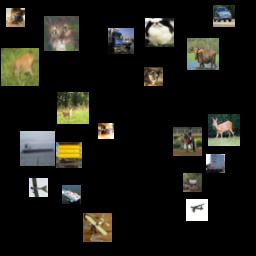airplane: (83, 213, 112, 242), (186, 199, 208, 221), (29, 178, 48, 197)
automobile: (213, 5, 235, 27)
cat: (44, 16, 79, 51), (144, 67, 163, 86), (98, 123, 114, 139)
deer: (1, 48, 39, 86), (187, 38, 219, 70), (208, 114, 240, 146), (57, 92, 89, 124), (183, 173, 202, 192)
dog: (145, 18, 174, 47), (6, 8, 25, 27)
ship: (20, 131, 55, 166), (62, 185, 81, 204)
truck: (108, 28, 134, 54), (56, 142, 82, 168), (206, 154, 225, 173)
